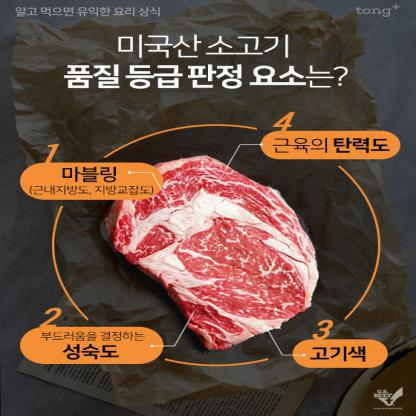beef: (125, 152, 318, 342)
